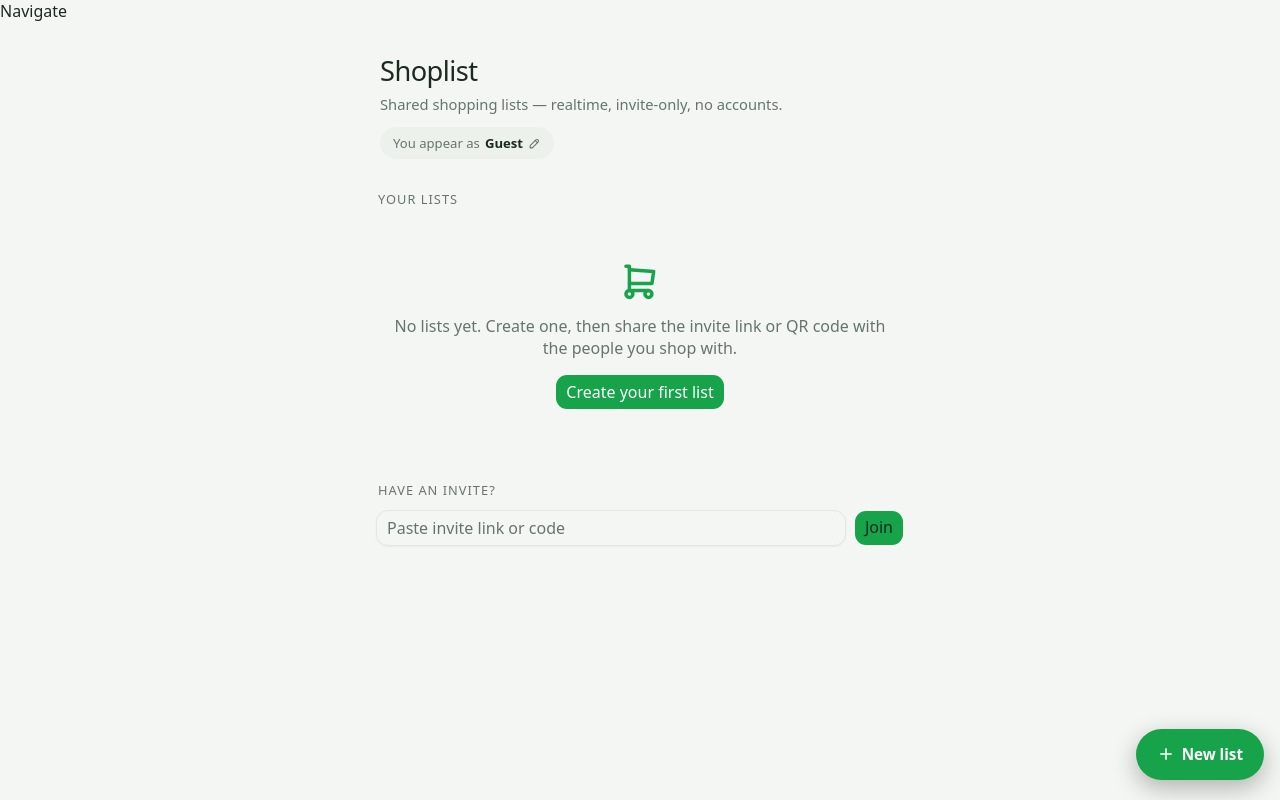
Test: application boundary › renders the home route and opens the named-list dialog
The width and height of the screenshot is (1280, 800).
Expected: the heading "Shoplist" is shown, [380,52,477,89]
Click the button "Create your first list": (640, 392) [555,374,725,410]
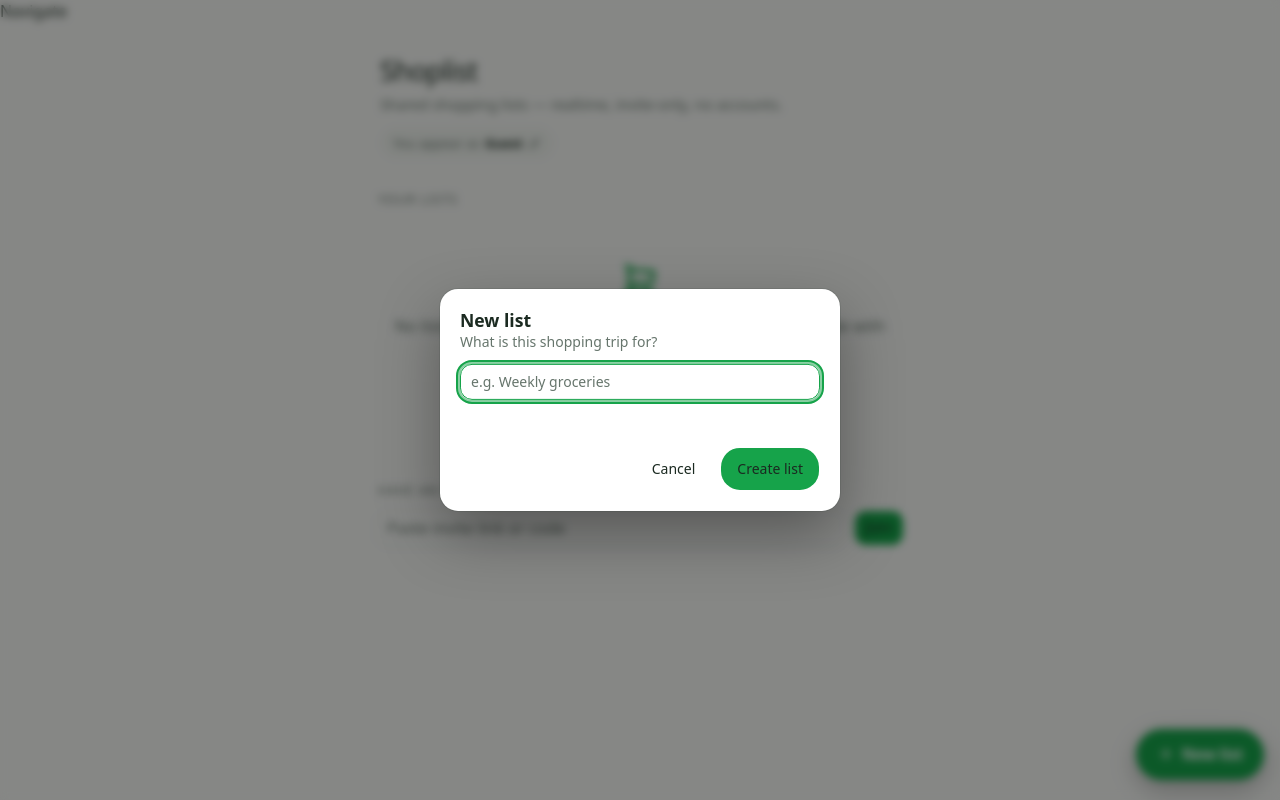
Now the heading "New list" is shown, box [460,308,531,332]
Now the field named "New list" is shown, box [460,364,820,400]
